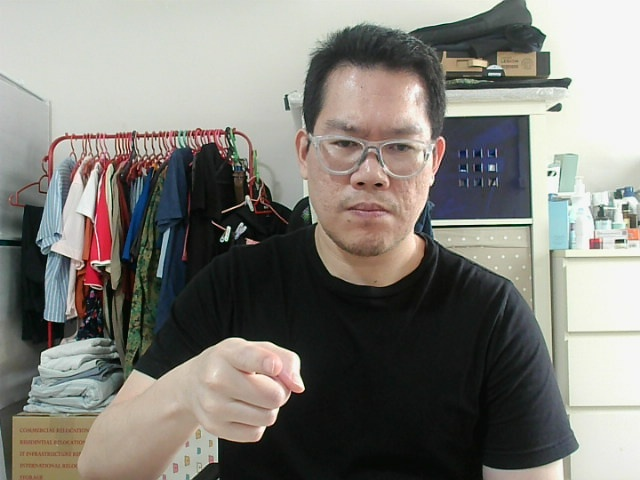you: (191, 346, 298, 434)
